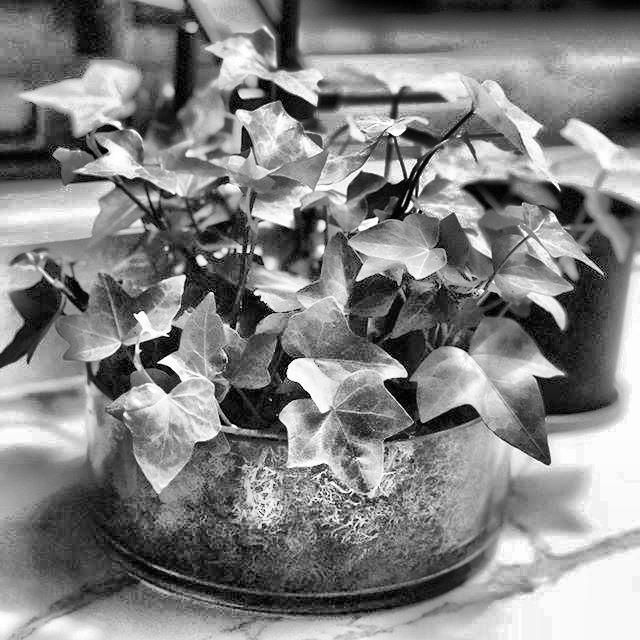plants: (33, 50, 605, 547)
